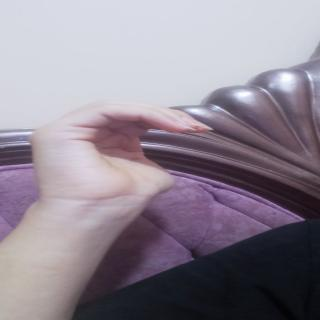HAA: (6, 90, 224, 217)
